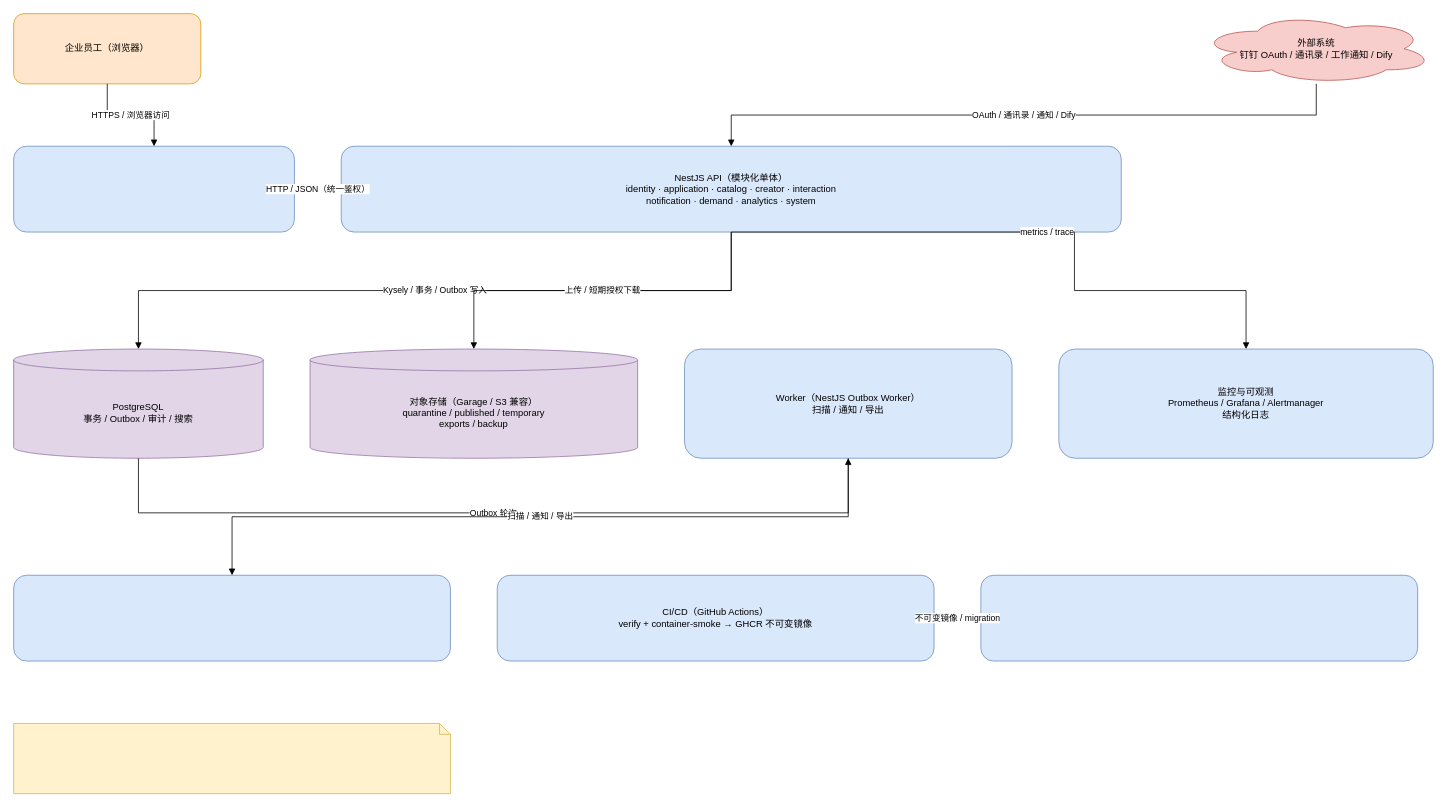
The diagram is 1447 pixels wide and 807 high, and some of its shapes have lost their labels. The box of each missing label's shape, as (x1, y1, x2, y2) in pixels:
Web 应用（React SPA） Vite / Ant Design / Tailwind: (13, 145, 294, 232)
后台集成 ClamAV 病毒扫描 / 钉钉通知投递 / Dify 调用: (13, 574, 450, 661)
生产环境（双机 Docker Compose） Web + API + Worker + PostgreSQL + 对象存储: (980, 574, 1418, 661)
约束：企业内网访问 · 单实例无 tenant_id · 无 Kubernetes: (13, 723, 450, 794)
